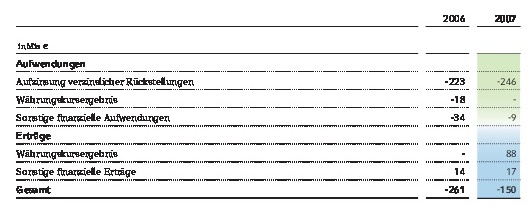table: (0, 0, 532, 208)
